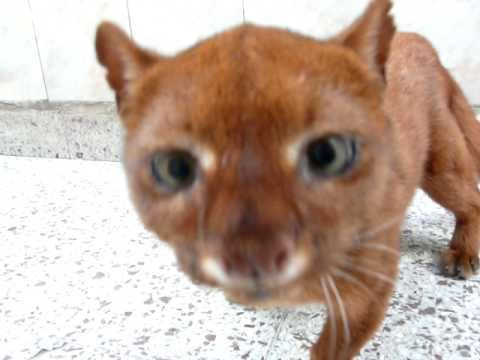Jaguarundi: (85, 0, 443, 340)
